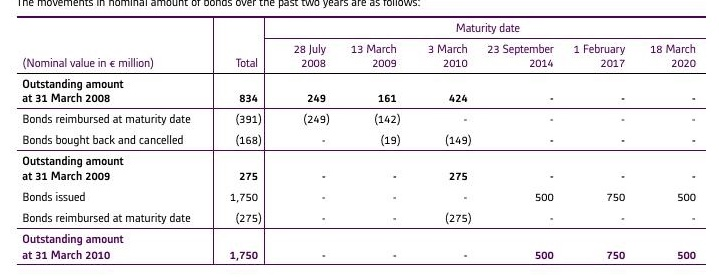table: (0, 0, 719, 277)
